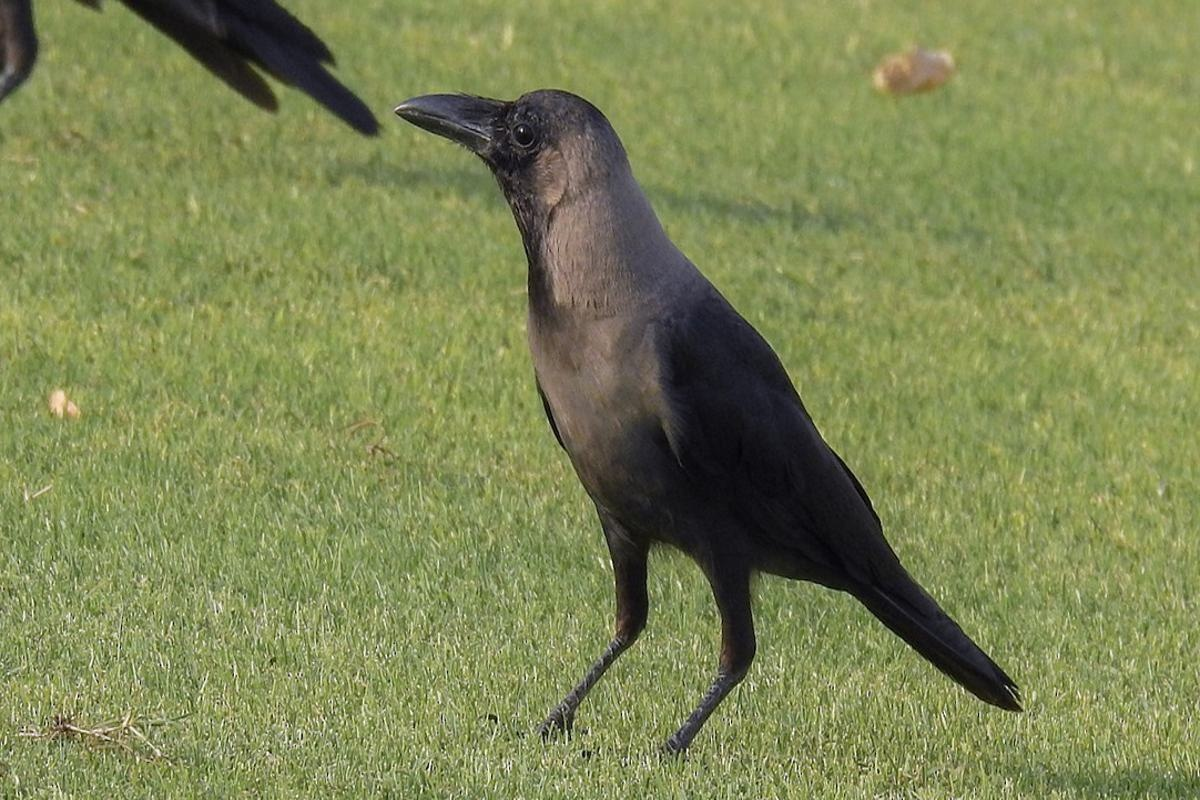crow: (391, 80, 1039, 747)
